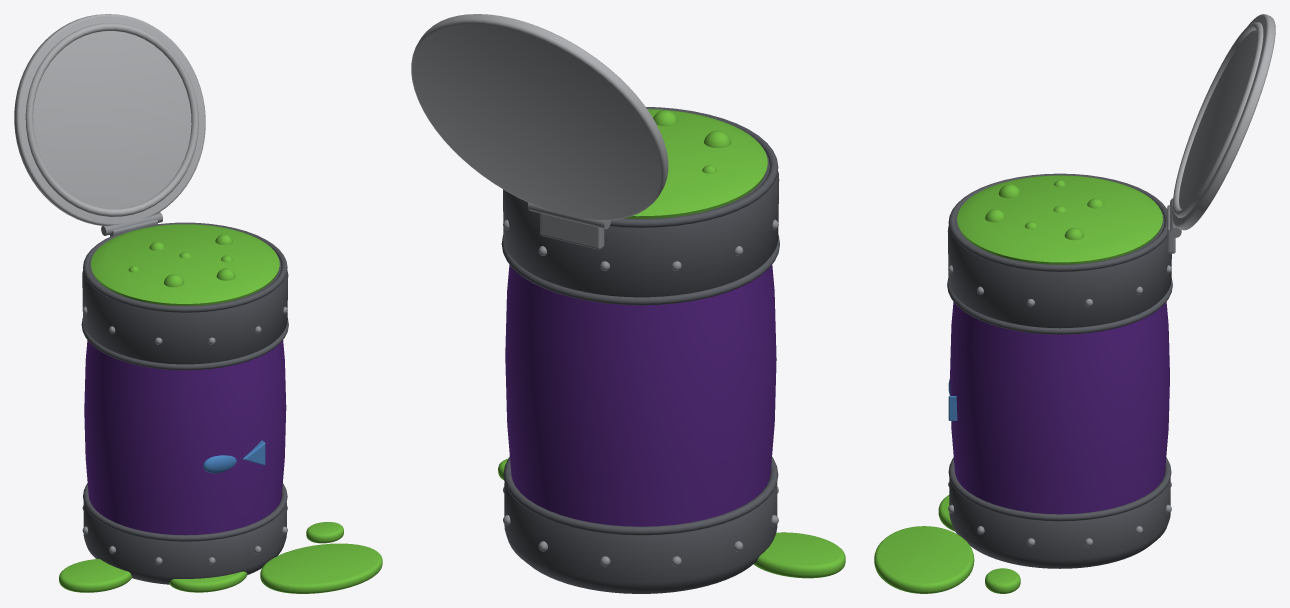
The model's file is gen_toxic_can.glb.
The picture shows the model from 3 angles, left to right: view 1: azimuth 30°, elevation 25°; view 2: azimuth 150°, elevation 25°; view 3: azimuth 270°, elevation 25°; orthographic projection. The views are drawn at different scales.
Parts seen in each view (by area): view 1: gen_toxic_can; view 2: gen_toxic_can; view 3: gen_toxic_can.
Part boxes in pixels (x1,y1,x2,y2): gen_toxic_can: [14, 14, 382, 593]; gen_toxic_can: [411, 14, 845, 593]; gen_toxic_can: [874, 14, 1275, 593].
Size of the model in its own units: 0.47 by 0.7722 by 0.5619.
Materials: 1 (1 with a texture image).
